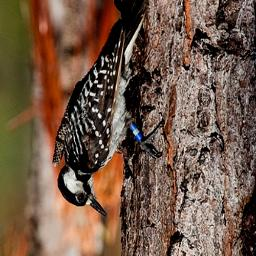Woodpecker: (43, 0, 178, 226)
